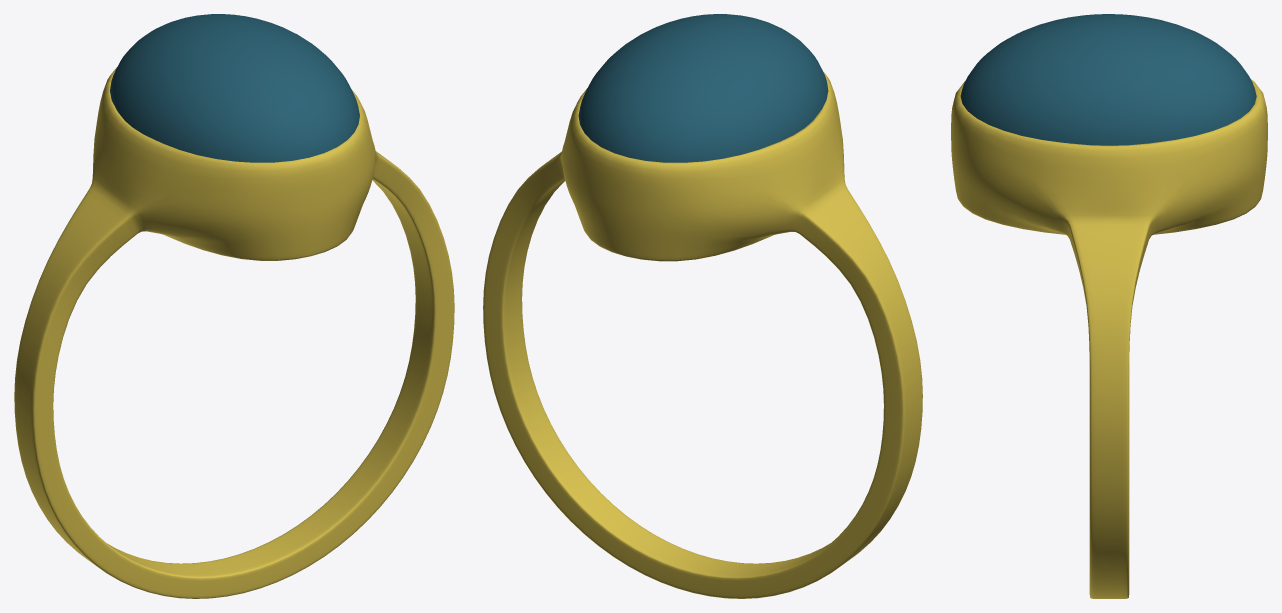
File: 1.Jewelry-1.glb
The picture shows the model from 3 angles, left to right: view 1: azimuth 30°, elevation 25°; view 2: azimuth 150°, elevation 25°; view 3: azimuth 270°, elevation 25°; orthographic projection.
Parts seen in each view (by area): view 1: pCylinder1, pSphere1; view 2: pCylinder1, pSphere1; view 3: pCylinder1, pSphere1.
Boxes of the visible parts, bbox=[...] form: pCylinder1: bbox=[14, 67, 454, 598]; pSphere1: bbox=[110, 14, 359, 162]; pCylinder1: bbox=[483, 71, 922, 598]; pSphere1: bbox=[578, 14, 828, 162]; pCylinder1: bbox=[951, 79, 1267, 598]; pSphere1: bbox=[960, 14, 1256, 145].
Size of the model in its own units: 0.012 by 0.0151 by 0.00787.
